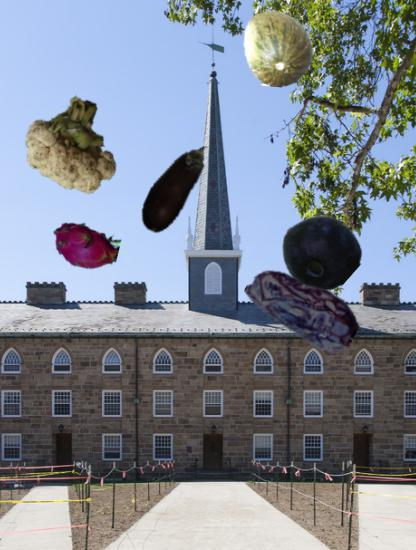Blueberry: (281, 213, 359, 291)
Cauliflower: (24, 93, 125, 194)
Dates: (243, 248, 362, 367)
Eggplant: (122, 135, 226, 239)
Melon: (240, 10, 318, 88)
Pitahaya: (51, 212, 120, 281)
